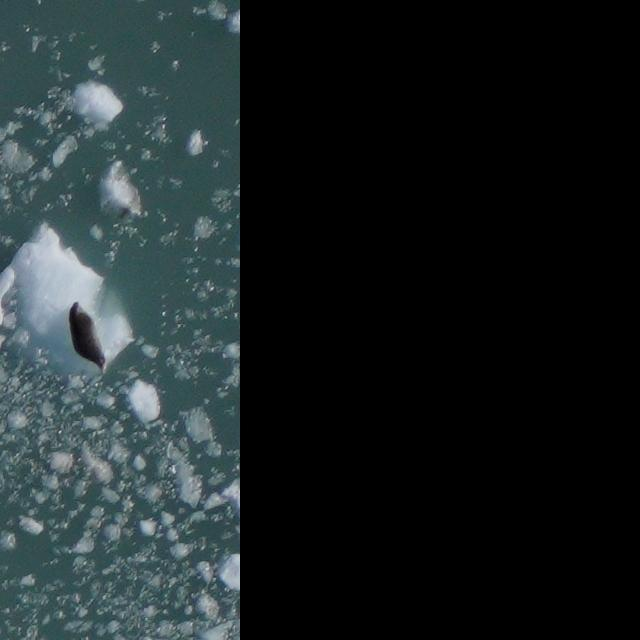seal: (64, 298, 113, 378)
